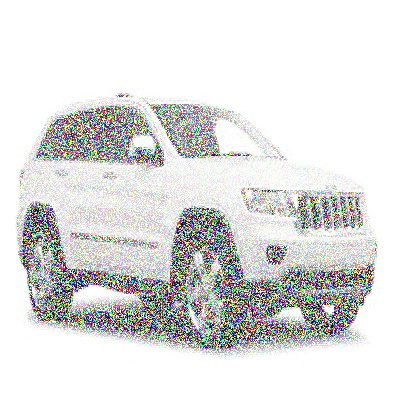Vehicle: (17, 95, 381, 355)
